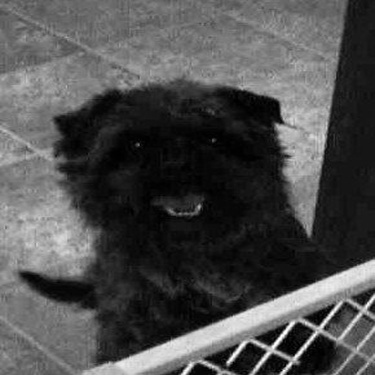dog: (10, 66, 347, 371)
